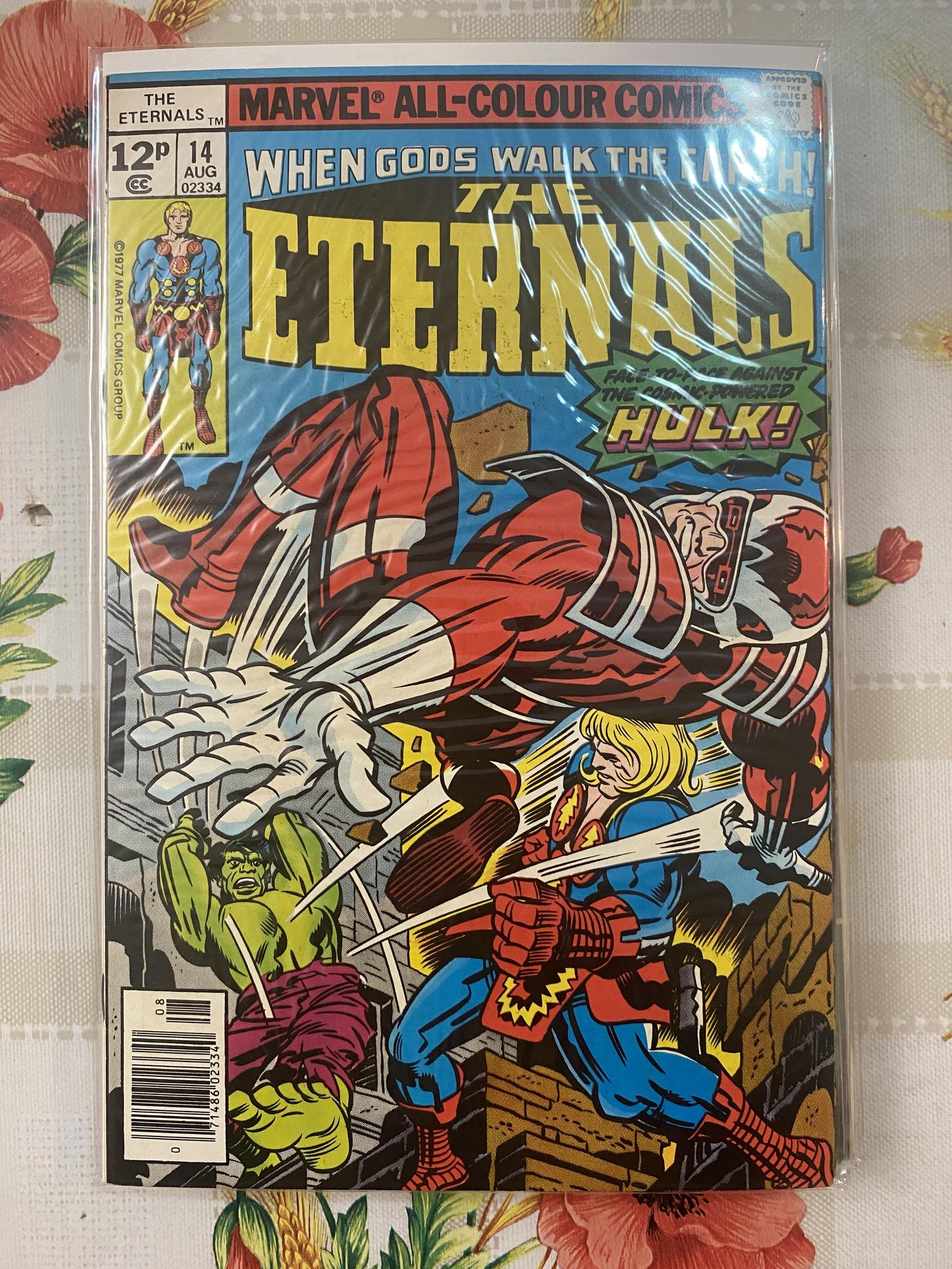comic: (96, 41, 836, 1196)
